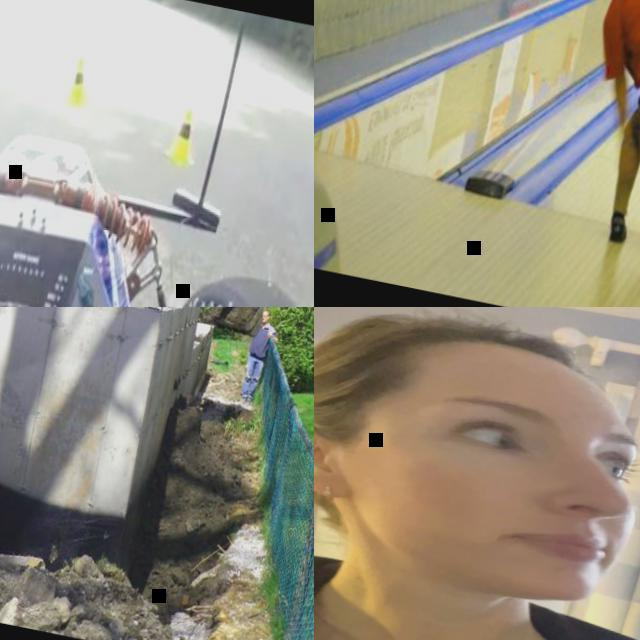machinery: (125, 307, 277, 342)
no_helmet: (314, 307, 629, 409), (261, 308, 272, 318)
no_mask: (314, 422, 638, 616), (261, 318, 270, 326)
no_vest: (601, 0, 640, 85), (246, 322, 272, 359)
person: (314, 307, 640, 640), (550, 0, 640, 270), (238, 307, 285, 403)
safety_cone: (160, 92, 208, 176), (54, 44, 102, 104)
vehicle: (0, 0, 314, 307)
